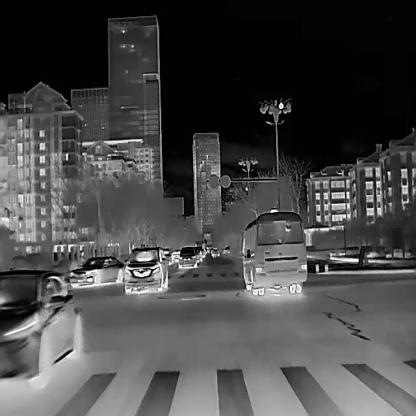bus: (240, 206, 306, 295), (194, 239, 204, 257)
car: (0, 267, 83, 385), (124, 246, 167, 293), (67, 255, 125, 286), (178, 244, 197, 266), (171, 249, 180, 261), (211, 247, 219, 257)
